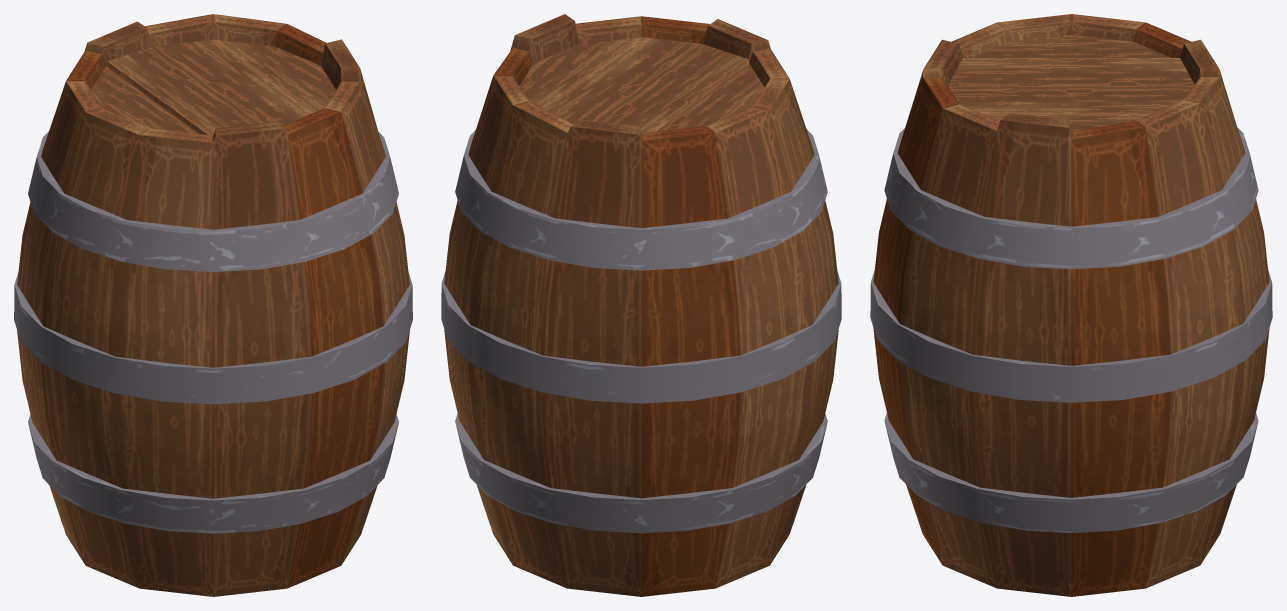
Rendered from Barrel.gltf.
The picture shows the model from 3 angles, left to right: view 1: azimuth 30°, elevation 25°; view 2: azimuth 150°, elevation 25°; view 3: azimuth 270°, elevation 25°; orthographic projection.
Visible parts, largest first — view 1: Barrel; view 2: Barrel; view 3: Barrel.
Part boxes in pixels (x1=…): Barrel: x1=14, y1=14, x2=412, y2=596; Barrel: x1=441, y1=14, x2=841, y2=596; Barrel: x1=870, y1=14, x2=1272, y2=596.
Size of the model in its own units: 0.698 by 0.898 by 0.698.
2 materials, 2 textured.
